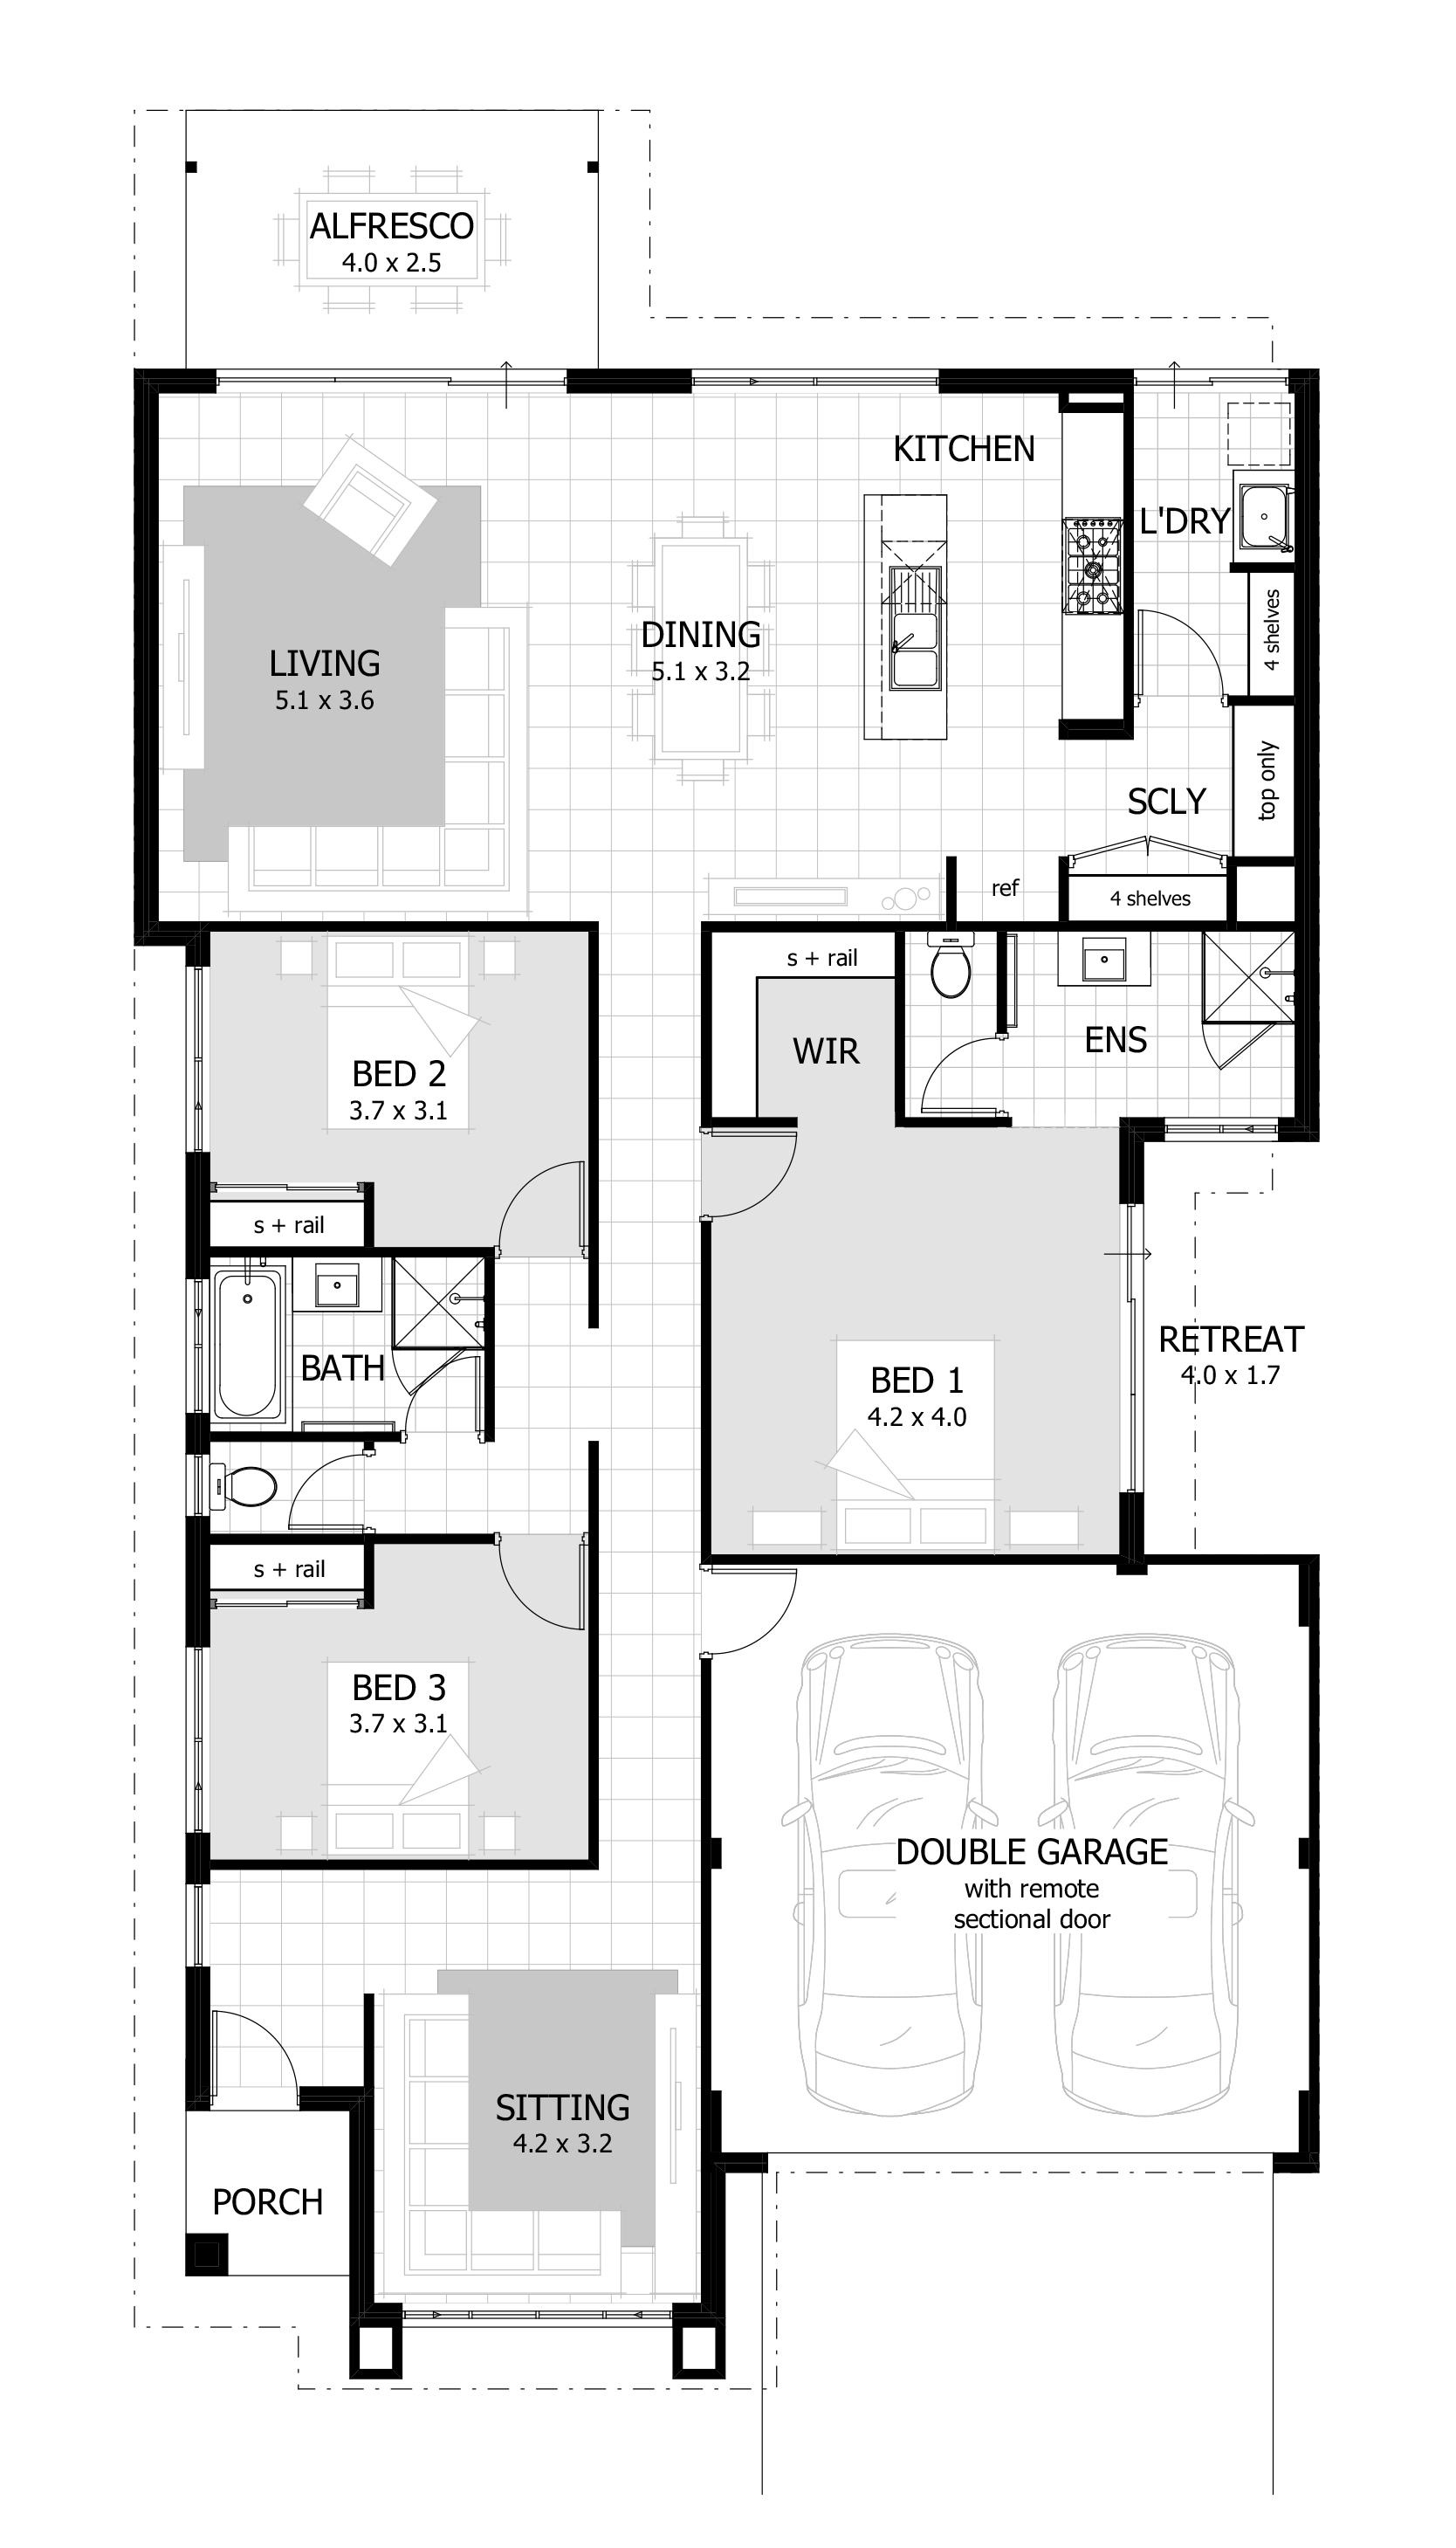window: (688, 362, 943, 401), (182, 961, 215, 1160), (182, 1641, 215, 1837), (182, 1274, 215, 1417), (1158, 1115, 1285, 1146), (186, 1880, 215, 1972), (184, 1451, 214, 1524)
